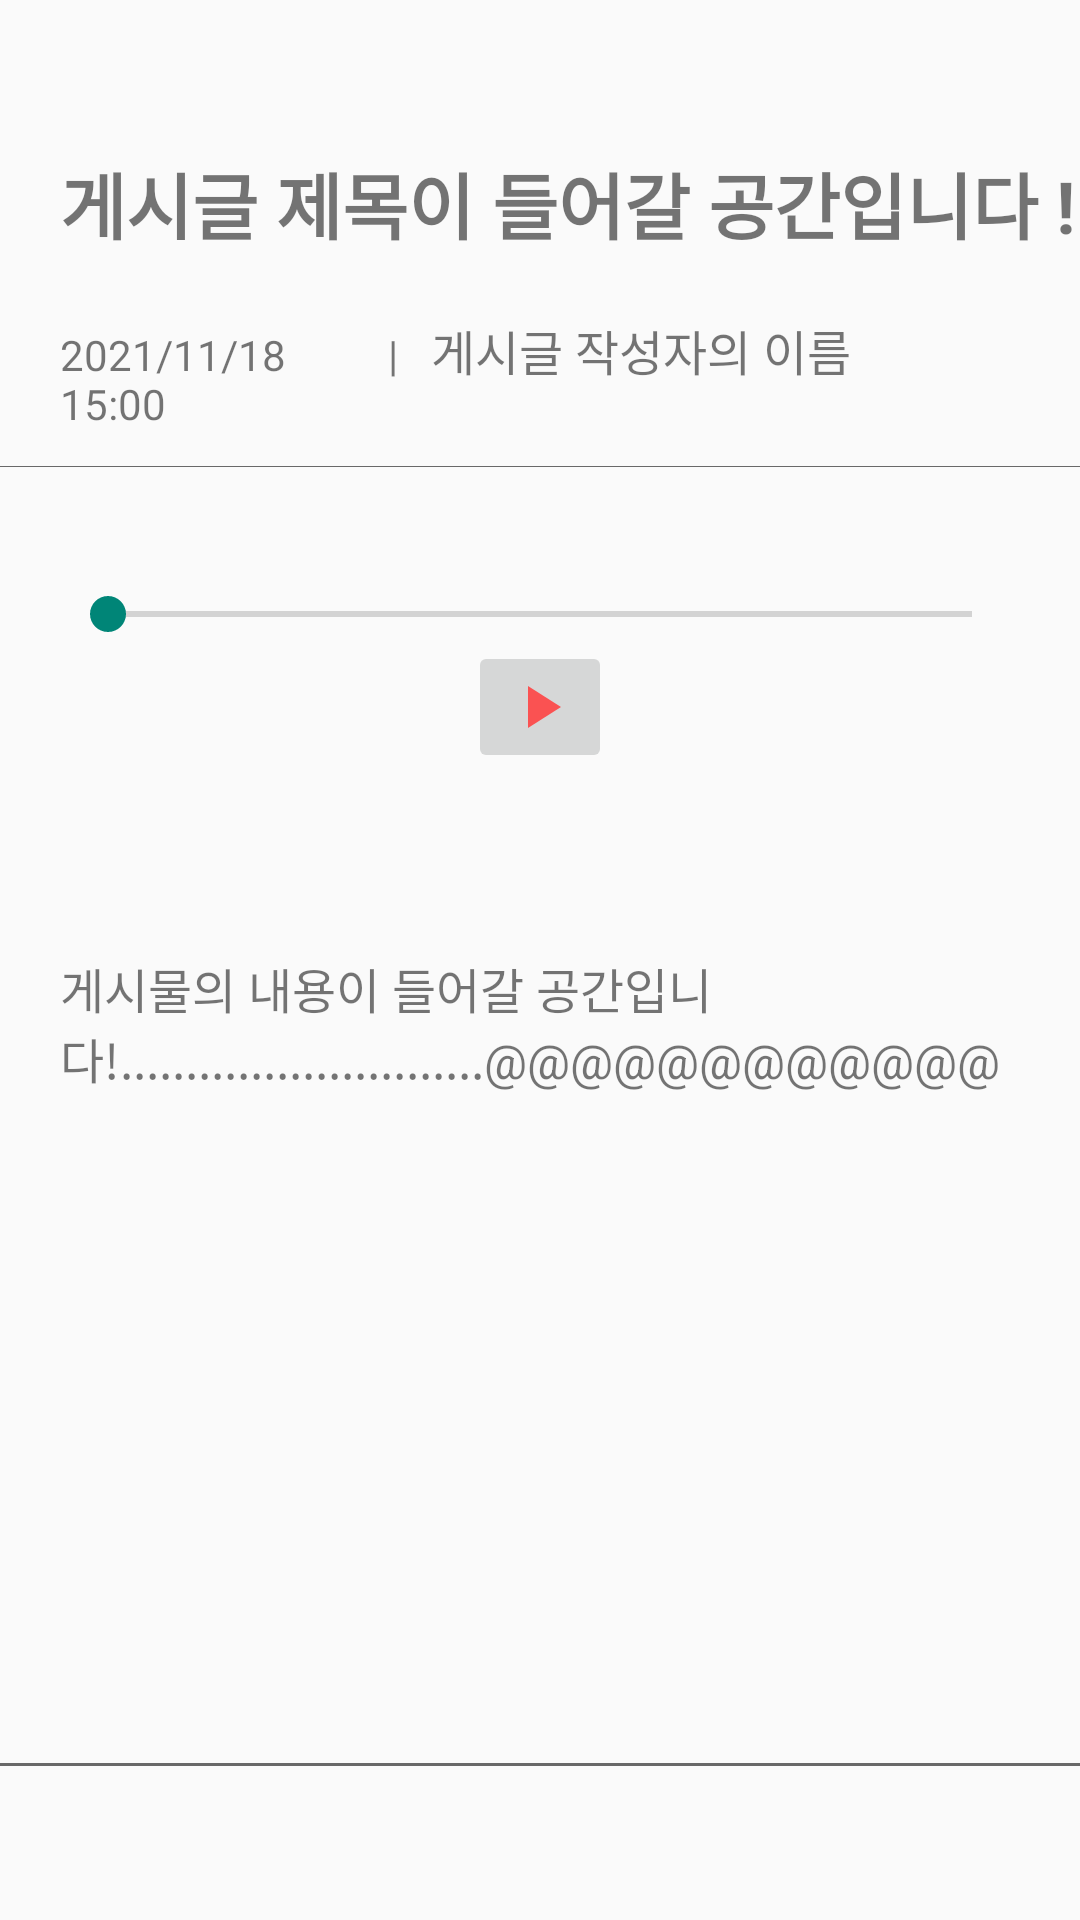

Locate icon controls on the screen. Image size 1080 x 1920, boxes as (x1, y1, x2, y2).
play: (480, 659, 600, 755)
